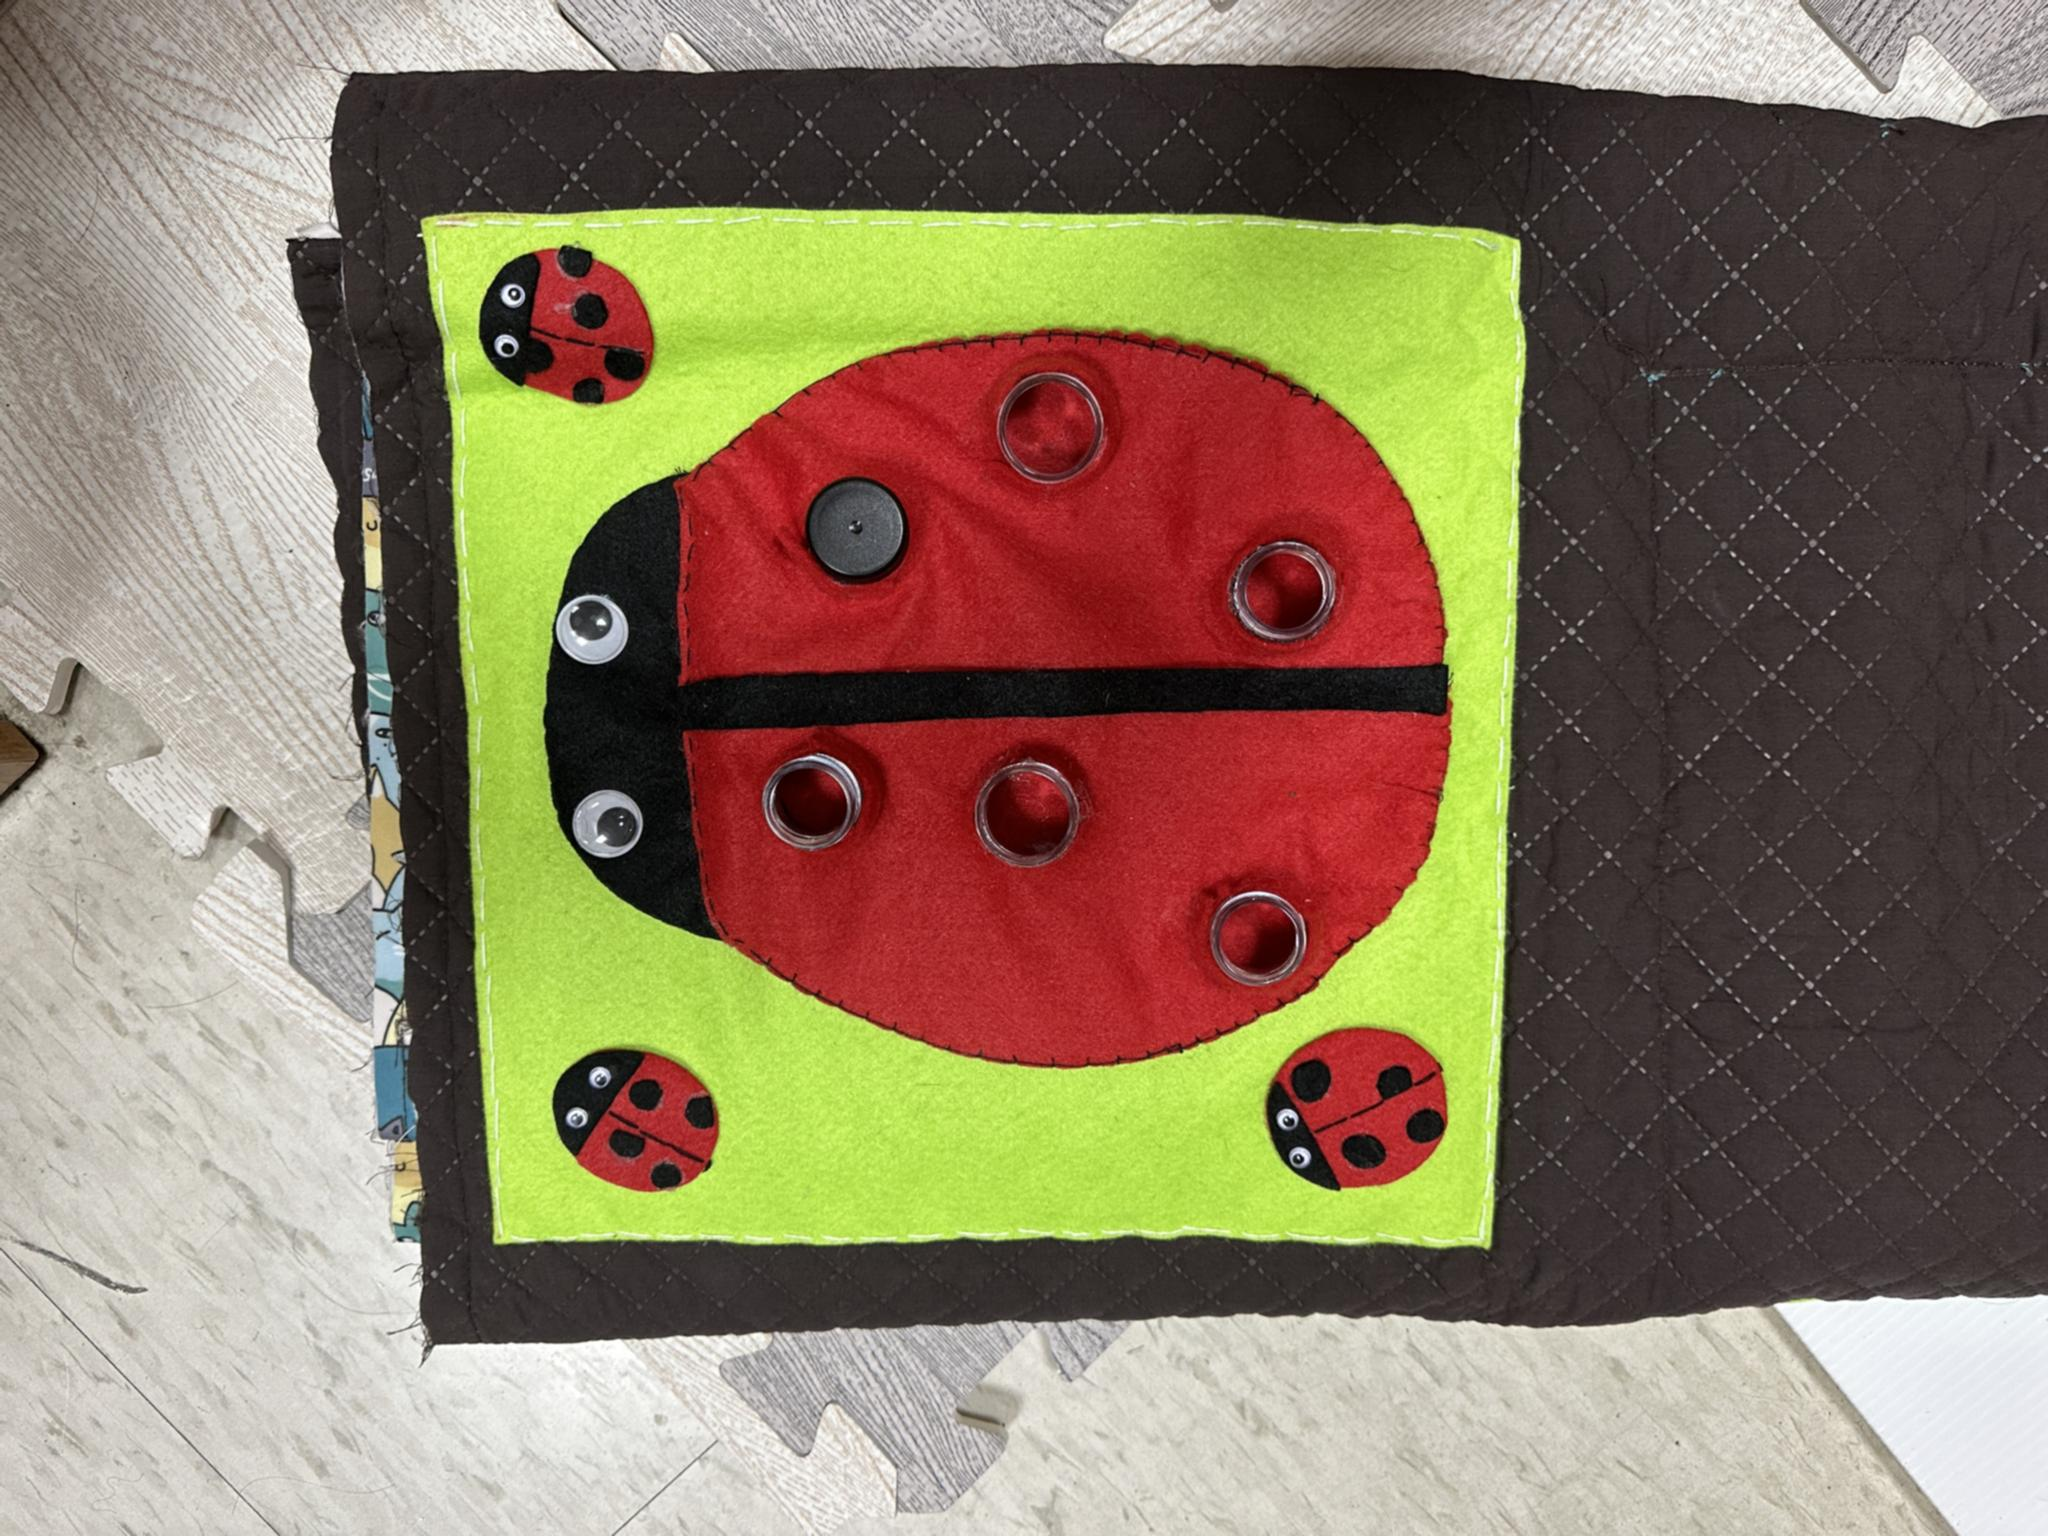cap_ok: (782, 458, 935, 600)
